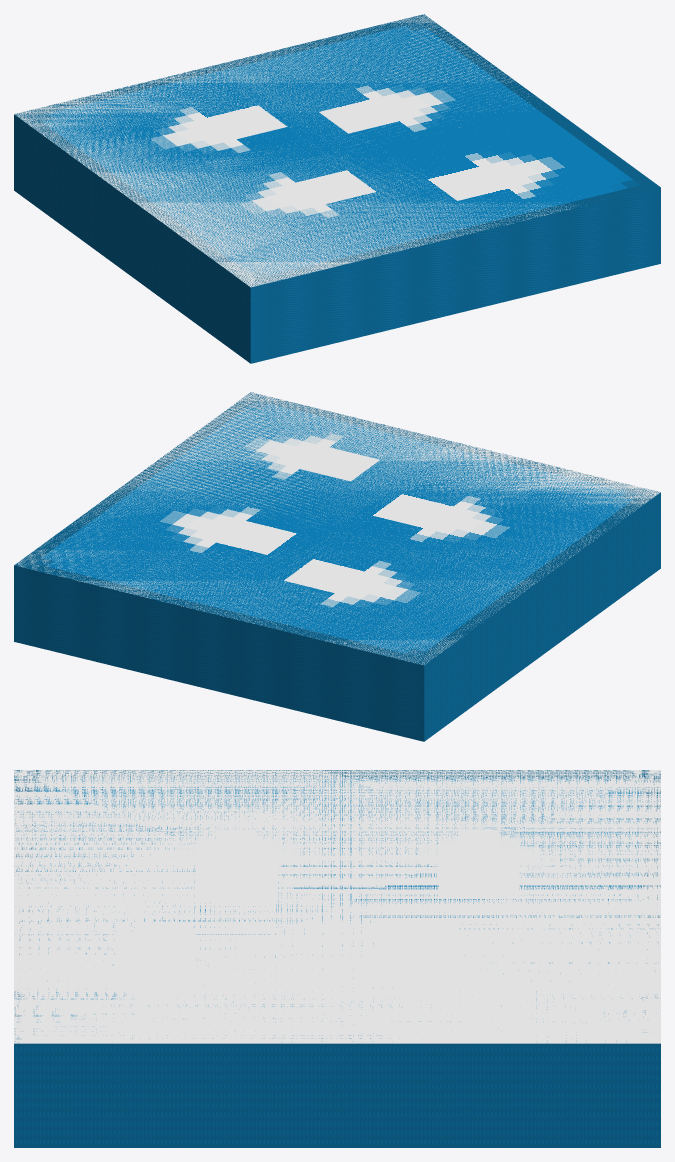
File: forwarding box.dae
The picture shows the model from 3 angles, top to bottom: view 1: azimuth 30°, elevation 25°; view 2: azimuth 150°, elevation 25°; view 3: azimuth 270°, elevation 25°; orthographic projection. The views are drawn at different scales.
Visible parts, largest first — view 1: image_0, SketchUp (×2); view 2: image_0, SketchUp (×2); view 3: SketchUp (×2), image_0.
Part boxes in pixels (x1,y1,x2,y2): image_0: [15, 14, 660, 286]; SketchUp (×2): [14, 14, 660, 363]; image_0: [14, 392, 659, 665]; SketchUp (×2): [14, 392, 660, 741]; SketchUp (×2): [14, 770, 660, 1147]; image_0: [14, 770, 660, 1042].
Size of the model in its own units: 192266 by 192266 by 34206.
